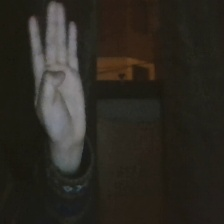B: (27, 1, 93, 149)
